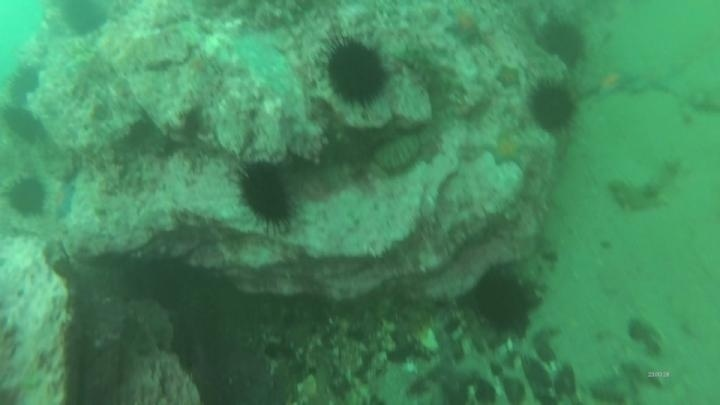echinus: (320, 34, 391, 110), (468, 267, 538, 336), (233, 158, 299, 231), (526, 80, 580, 135), (537, 19, 589, 69), (4, 174, 50, 219), (57, 1, 110, 39), (2, 104, 44, 145), (6, 64, 44, 106)
holothurian: (606, 155, 686, 215), (396, 44, 463, 109)
scallop: (367, 128, 423, 180)
starfish: (585, 65, 639, 102), (442, 4, 486, 46), (485, 131, 529, 169), (51, 177, 79, 222), (493, 62, 525, 92)
